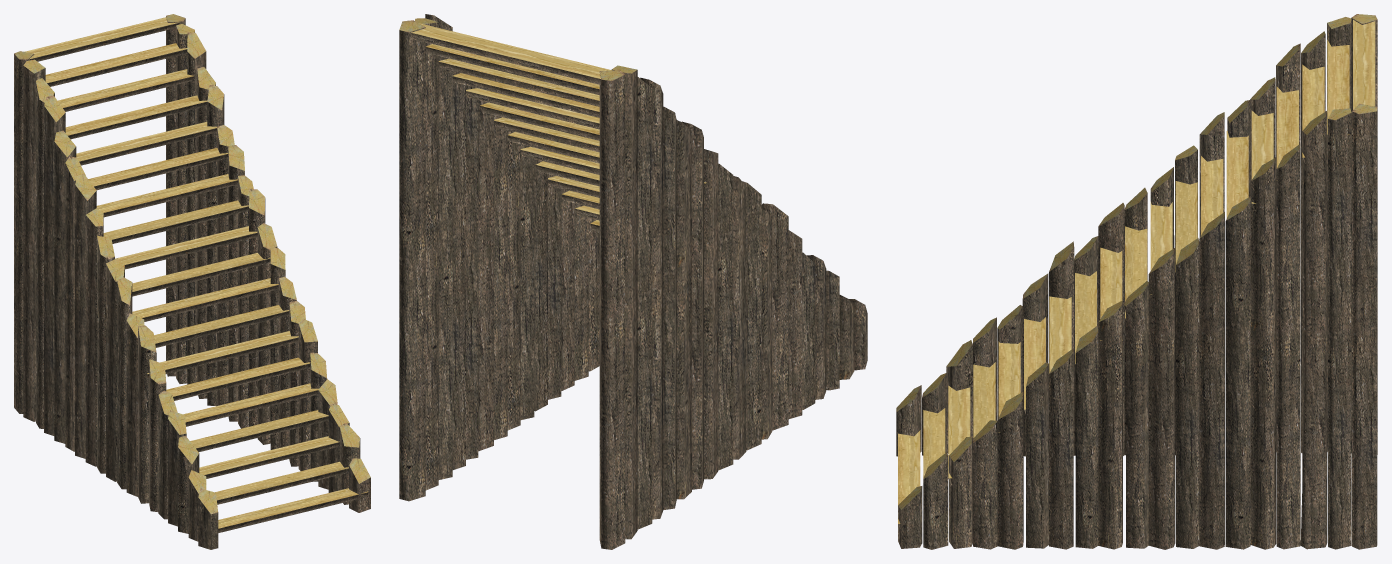
The model's file is construction_wood_stairs_straight_mesh.fbx.
The picture shows the model from 3 angles, left to right: view 1: azimuth 30°, elevation 25°; view 2: azimuth 150°, elevation 25°; view 3: azimuth 270°, elevation 25°; orthographic projection. The views are drawn at different scales.
Visible parts, largest first — view 1: construction_wood_stairs_straight_mesh; view 2: construction_wood_stairs_straight_mesh; view 3: construction_wood_stairs_straight_mesh.
Boxes of the visible parts, x1,y1,x2,y2 form: construction_wood_stairs_straight_mesh: (14,14,370,549); construction_wood_stairs_straight_mesh: (399,14,867,549); construction_wood_stairs_straight_mesh: (896,14,1377,549).
Size of the model in its own units: 150 by 300 by 301.
